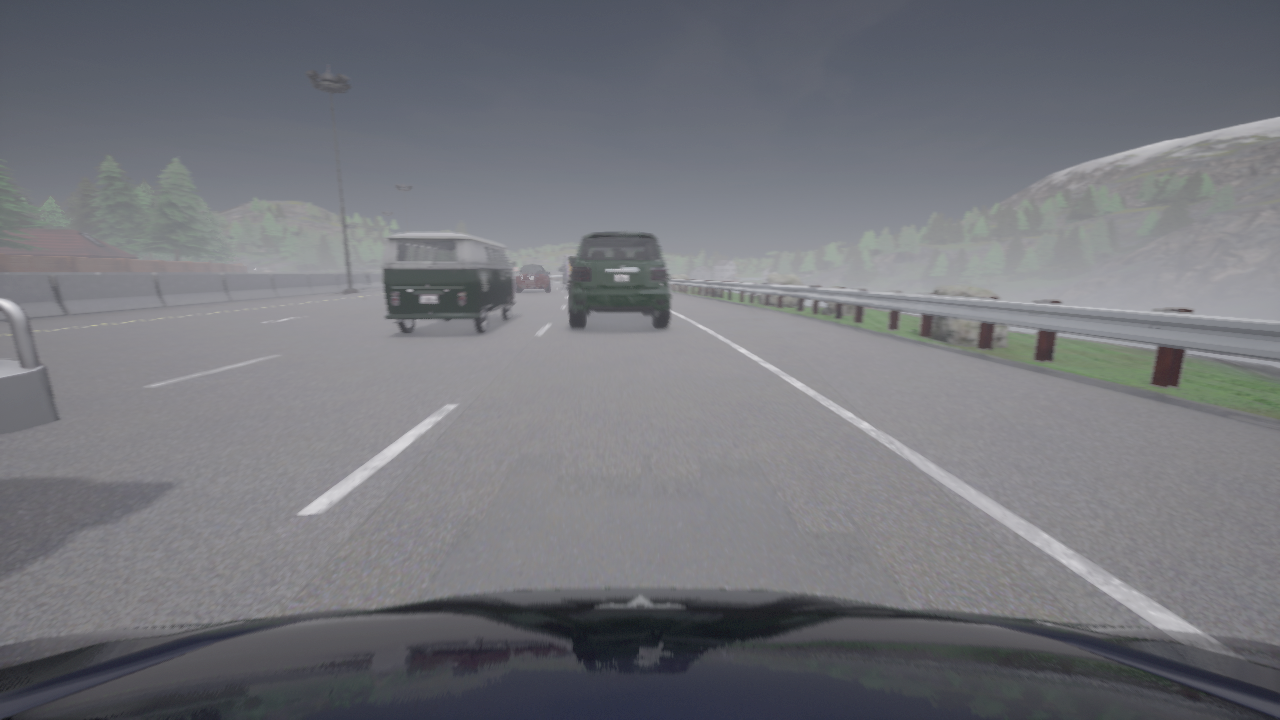cyclist: (0, 588, 1279, 719), (381, 232, 515, 334), (569, 233, 669, 328), (516, 266, 549, 292), (559, 255, 576, 289)
